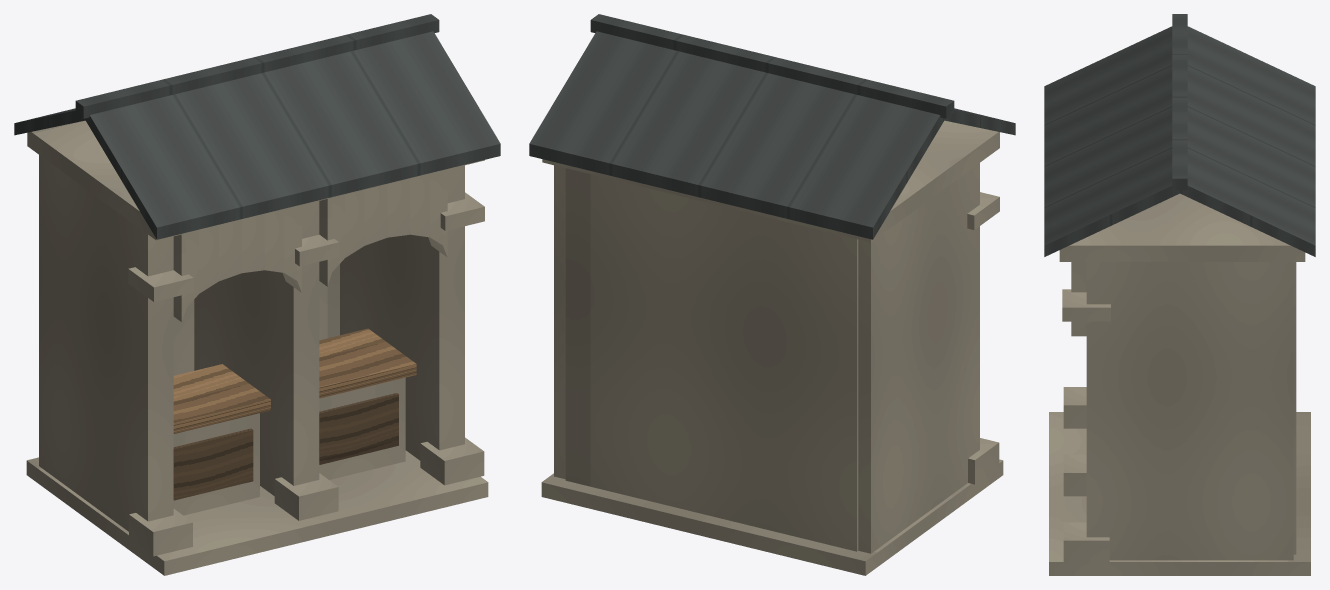
The model's file is havana.glb.
3 views of the same model, side by side, from view 1: azimuth 30°, elevation 25°; view 2: azimuth 150°, elevation 25°; view 3: azimuth 270°, elevation 25° (orthographic). The views are drawn at different scales.
Parts seen in each view (by area): view 1: havana; view 2: havana; view 3: havana.
Boxes of the visible parts, x1=… form: havana: x1=14, y1=14, x2=500, y2=575; havana: x1=529, y1=14, x2=1015, y2=575; havana: x1=1044, y1=14, x2=1315, y2=575.
Size of the model in its own units: 2.18 by 2.5 by 1.52.
1 material, 1 textured.
